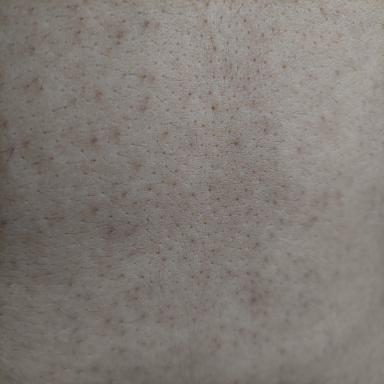normal skin: (0, 1, 384, 383)
